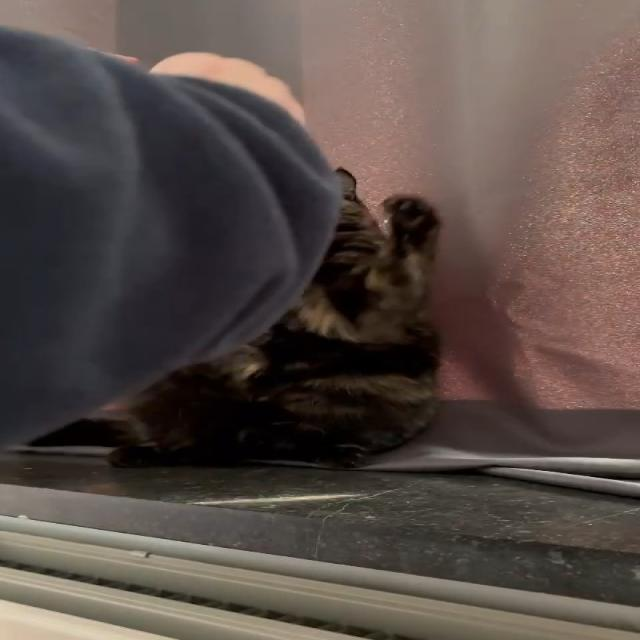authorized: (104, 166, 444, 470)
